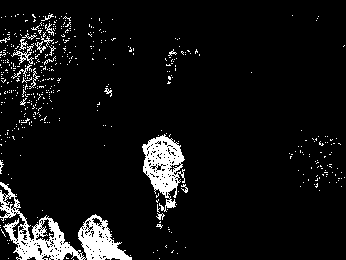person: (142, 132, 187, 229), (78, 215, 130, 260), (33, 217, 80, 259)
